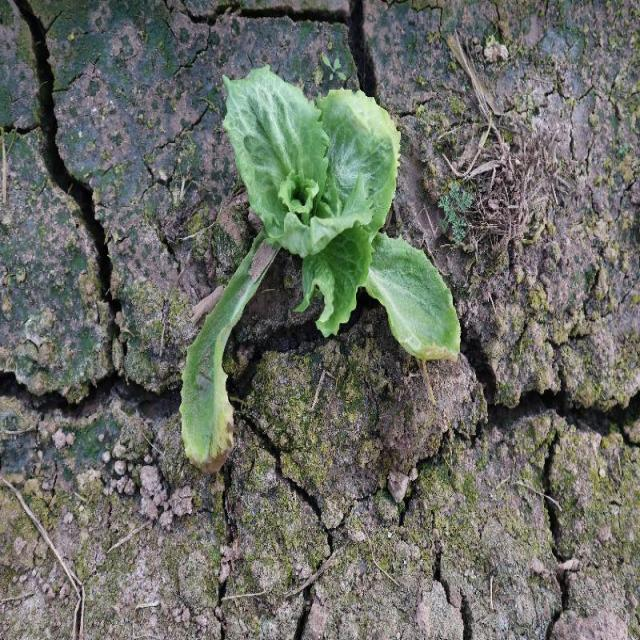crop: (179, 64, 463, 470)
